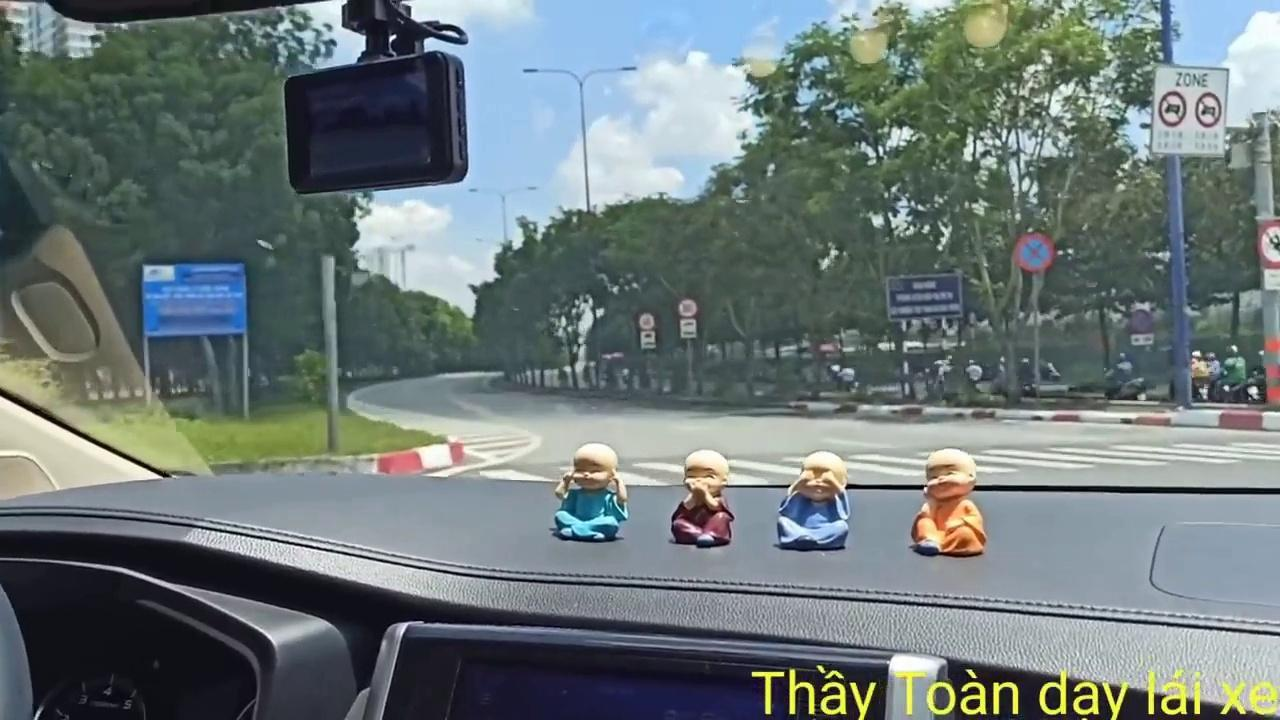Biển phụ: (679, 318, 698, 339), (641, 331, 657, 350)
Cấm cac phương tiện hoạt động trong khung giờ cố định: (1150, 64, 1230, 158)
Cấm dừng - Cấm đỗ: (1011, 230, 1055, 272)
GIơi hạn tốc độ 60Km/h: (638, 312, 656, 329)
Giới hạn tốc độ 80Km/h: (678, 298, 697, 316)
Khác: (137, 258, 249, 338)
